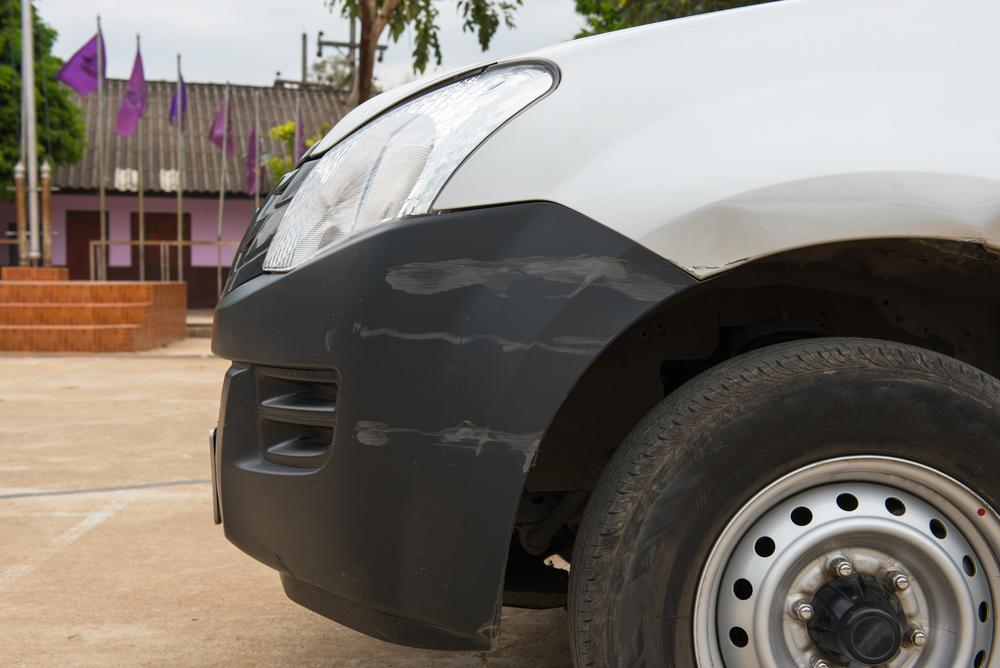dent: (666, 206, 764, 273)
scratch: (376, 250, 693, 305), (351, 404, 548, 476), (328, 312, 621, 358)
